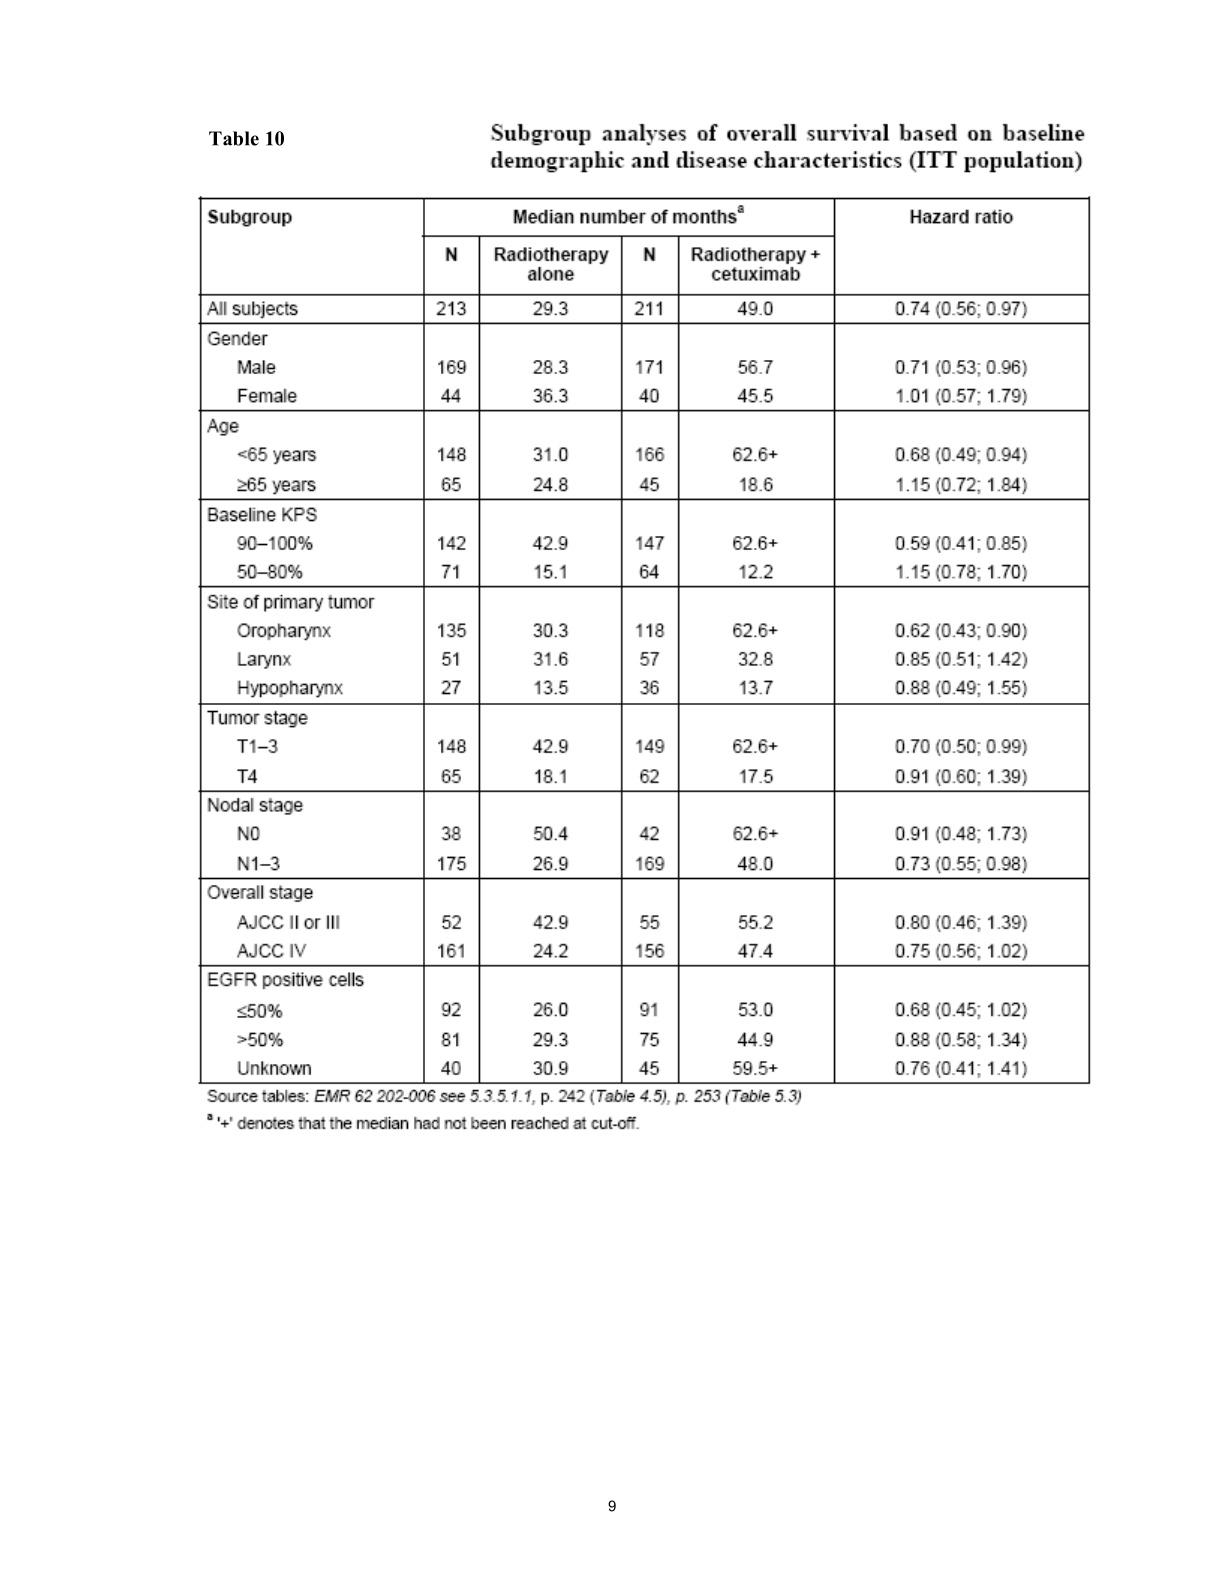merged_cells: (198, 195, 1092, 1085)
